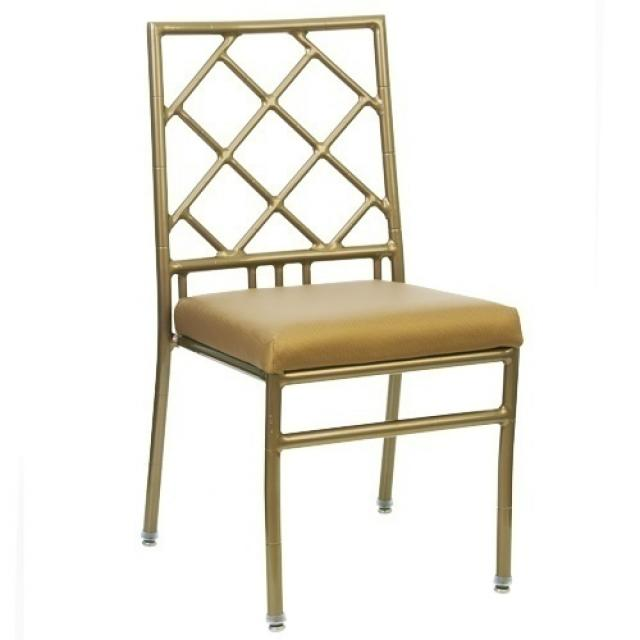Chair: (133, 13, 527, 632)
